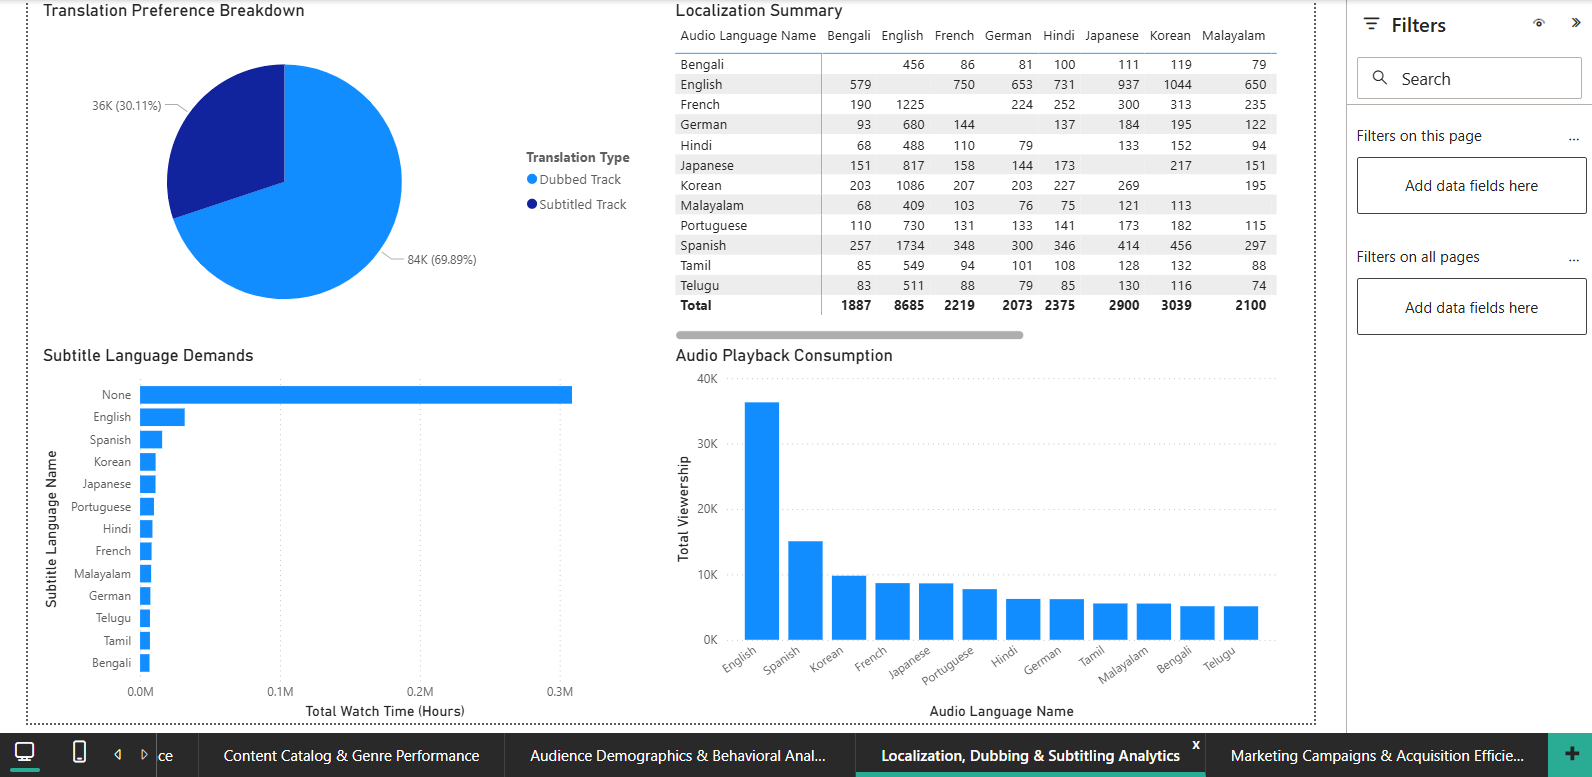

What the dashboard file says about the page in this screenshot:
{"tool":"powerbi","page":{"name":"Localization, Dubbing & Subtitling Analytics","canvas":[1280,720],"ordinal":3},"visuals":[{"type":"pieChart","title":"Translation Preference Breakdown","fields":{"Category":["Fact_Viewership_And_Ratings.Translation Type"],"Y":["Dim_Content.Total Viewership"]},"box":[9.6,0,607.9,343.1],"z":0},{"type":"clusteredBarChart","title":"Subtitle Language Demands","fields":{"Category":["Fact_Viewership_And_Ratings.Subtitle Language Name"],"Y":["Dim_Content.Total Watch Time (Hours)"]},"box":[9.6,343.1,607.9,377.4],"z":1000},{"type":"clusteredColumnChart","title":"Audio Playback Consumption","fields":{"Category":["Fact_Viewership_And_Ratings.Audio Language Name"],"Y":["Dim_Content.Total Viewership"]},"box":[639.5,343.1,607.9,377.4],"z":2000},{"type":"pivotTable","title":" Localization Summary","fields":{"Rows":["Fact_Viewership_And_Ratings.Audio Language Name"],"Columns":["Fact_Viewership_And_Ratings.Subtitle Language Name"],"Values":["Dim_Content.Total Viewership"]},"box":[639.5,0,607.9,343.1],"z":3000}]}

Visuals, with their boxes on the page's 1280x720 design canvas (x1, y1, x2, y2). These are canvas units, not pixel positions in the 1592x777 screenshot, which may show the page scaled, cropped or inside an application window:
"Translation Preference Breakdown" pieChart: (10, 0, 618, 343)
"Subtitle Language Demands" clusteredBarChart: (10, 343, 618, 720)
"Audio Playback Consumption" clusteredColumnChart: (640, 343, 1247, 720)
" Localization Summary" pivotTable: (640, 0, 1247, 343)
